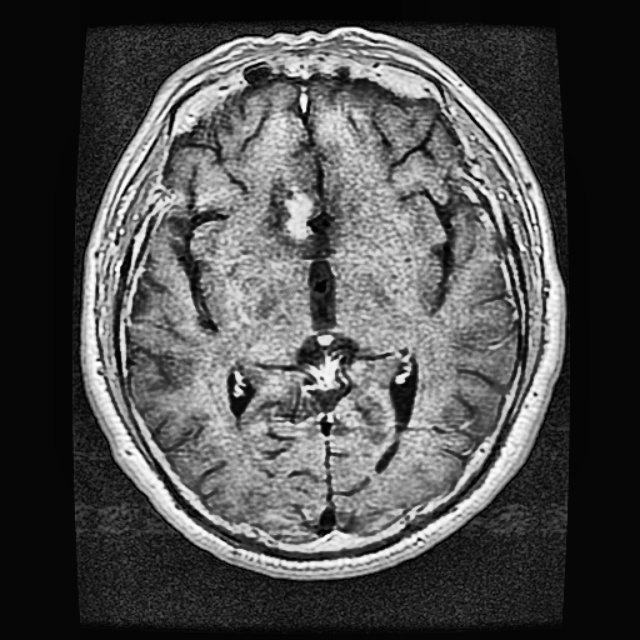Pituitary: (279, 188, 318, 238)
